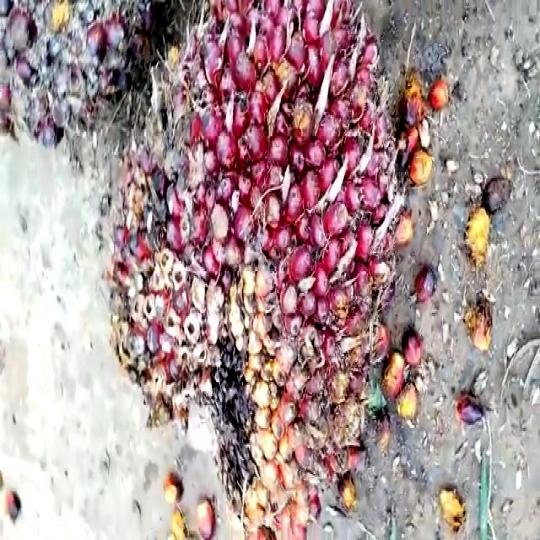kurang masak: (134, 0, 401, 517)
